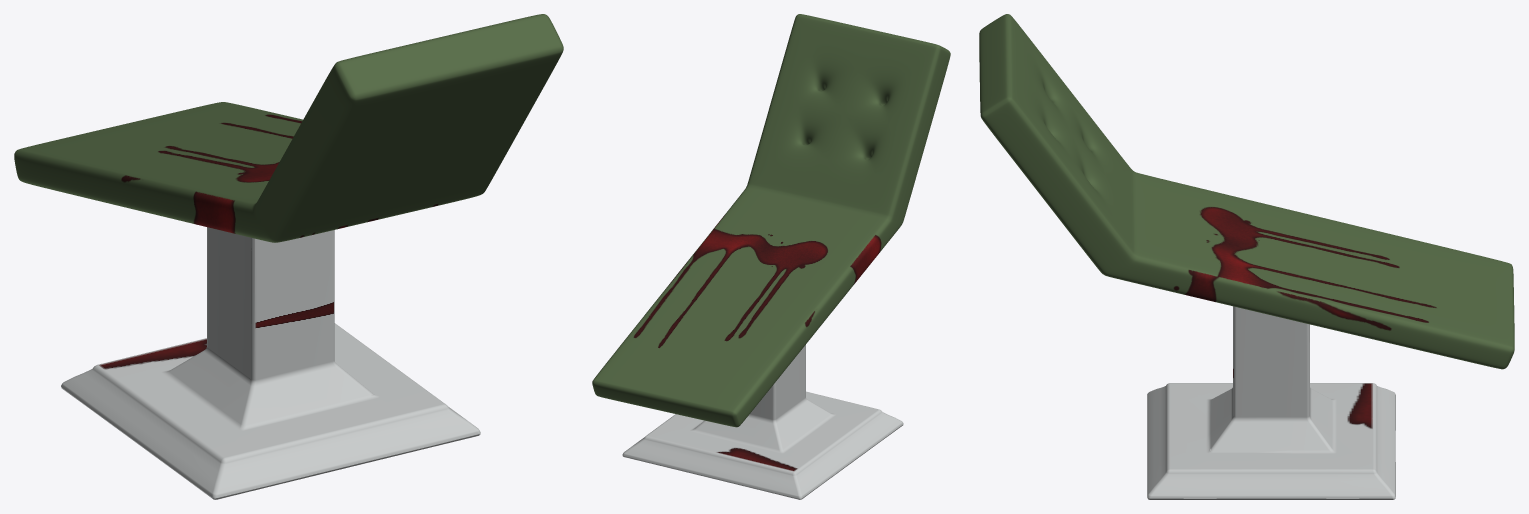
The model's file is tilt operating bed.fbx.
The picture shows the model from 3 angles, left to right: view 1: azimuth 30°, elevation 25°; view 2: azimuth 150°, elevation 25°; view 3: azimuth 270°, elevation 25°; orthographic projection. The views are drawn at different scales.
Parts seen in each view (by area): view 1: pCube5, pCube4; view 2: pCube5, pCube4; view 3: pCube5, pCube4.
Part boxes in pixels (bbox=[...]): pCube5: bbox=[14, 14, 563, 242]; pCube4: bbox=[61, 227, 480, 499]; pCube5: bbox=[592, 14, 950, 427]; pCube4: bbox=[622, 345, 903, 499]; pCube5: bbox=[979, 14, 1514, 369]; pCube4: bbox=[1147, 306, 1395, 499].
Size of the model in its own units: 1.63 by 2.86 by 3.5.
Materials: 2 (2 with a texture image).
